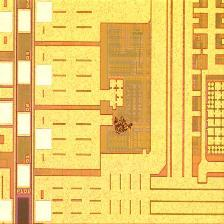PO CONTAMINATION: (105, 110, 137, 142)
